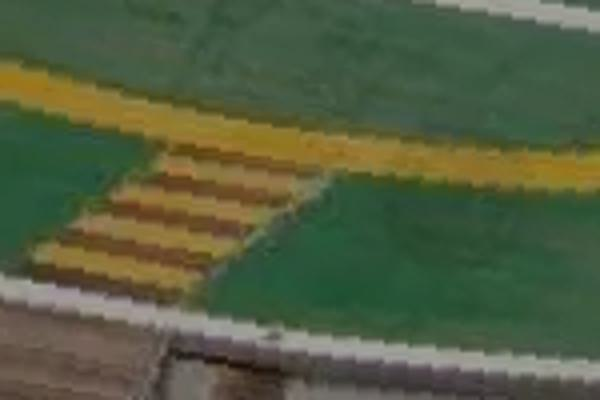Apron: (1, 34, 593, 216)
